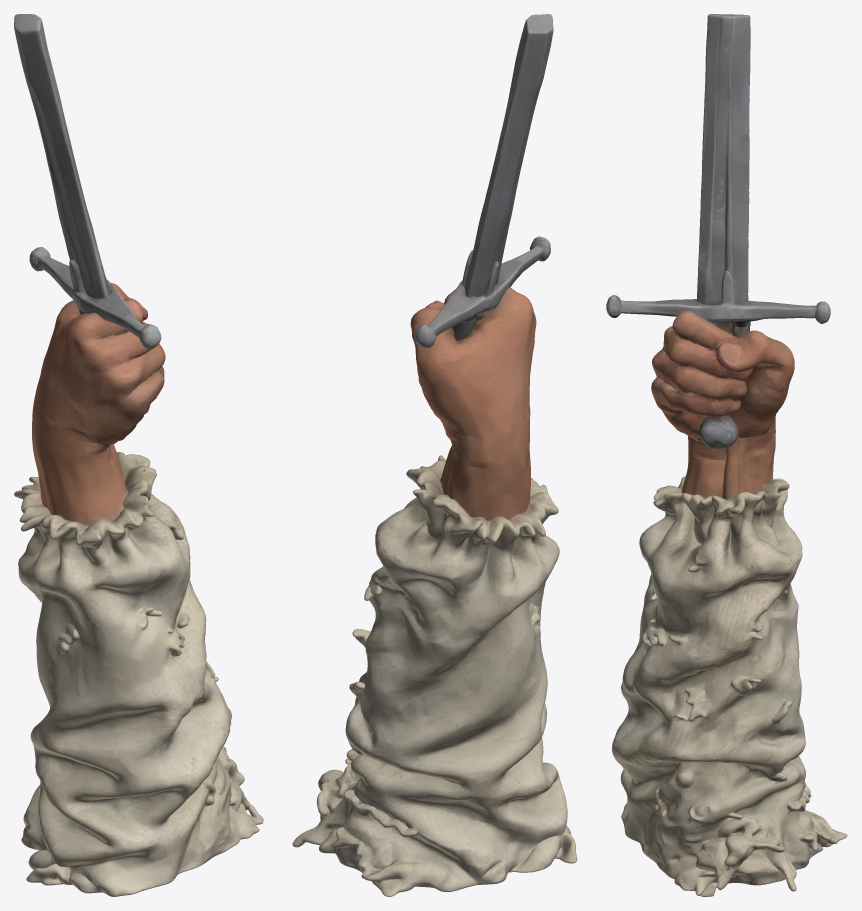
3 views of the same model, side by side, from view 1: azimuth 30°, elevation 25°; view 2: azimuth 150°, elevation 25°; view 3: azimuth 270°, elevation 25° (orthographic). The views are drawn at different scales.
Parts seen in each view (by area): view 1: tripo_node_76ebb646-8eaf-45a2-922b-bb2ffcfd6e12; view 2: tripo_node_76ebb646-8eaf-45a2-922b-bb2ffcfd6e12; view 3: tripo_node_76ebb646-8eaf-45a2-922b-bb2ffcfd6e12.
Part boxes in pixels (box(x1,y1,x2,y2)): tripo_node_76ebb646-8eaf-45a2-922b-bb2ffcfd6e12: box(14, 14, 263, 896); tripo_node_76ebb646-8eaf-45a2-922b-bb2ffcfd6e12: box(292, 14, 577, 896); tripo_node_76ebb646-8eaf-45a2-922b-bb2ffcfd6e12: box(606, 14, 847, 896).
Bounding box in the file's own units: 0.2975 × 1 × 0.2785.
Materials: 1 (1 with a texture image).
